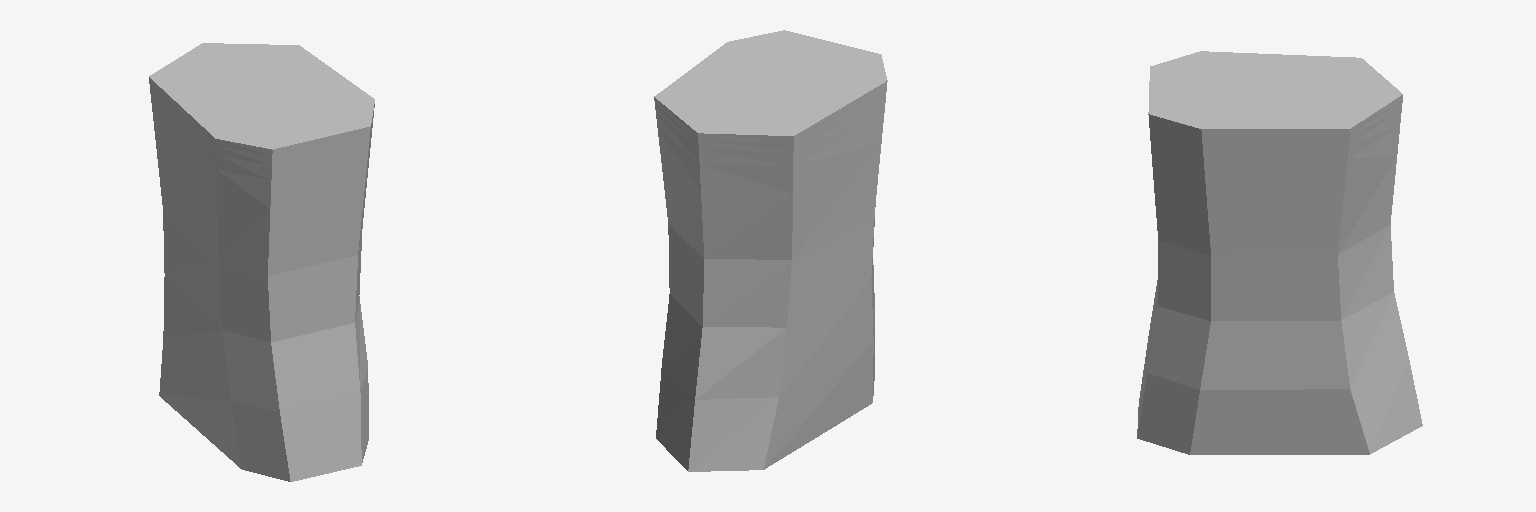
File: shoe tube.obj
3 renders of one model, left to right at view 1: azimuth 30°, elevation 25°; view 2: azimuth 150°, elevation 25°; view 3: azimuth 270°, elevation 25°, orthographic.
Parts seen in each view (by area): view 1: shoe_tube; view 2: shoe_tube; view 3: shoe_tube.
Part boxes in pixels (x1,y1,x2,y2): shoe_tube: (149, 43, 374, 481); shoe_tube: (654, 30, 887, 471); shoe_tube: (1137, 51, 1422, 454).
Size of the model in its own units: 50.59 by 100 by 78.29.